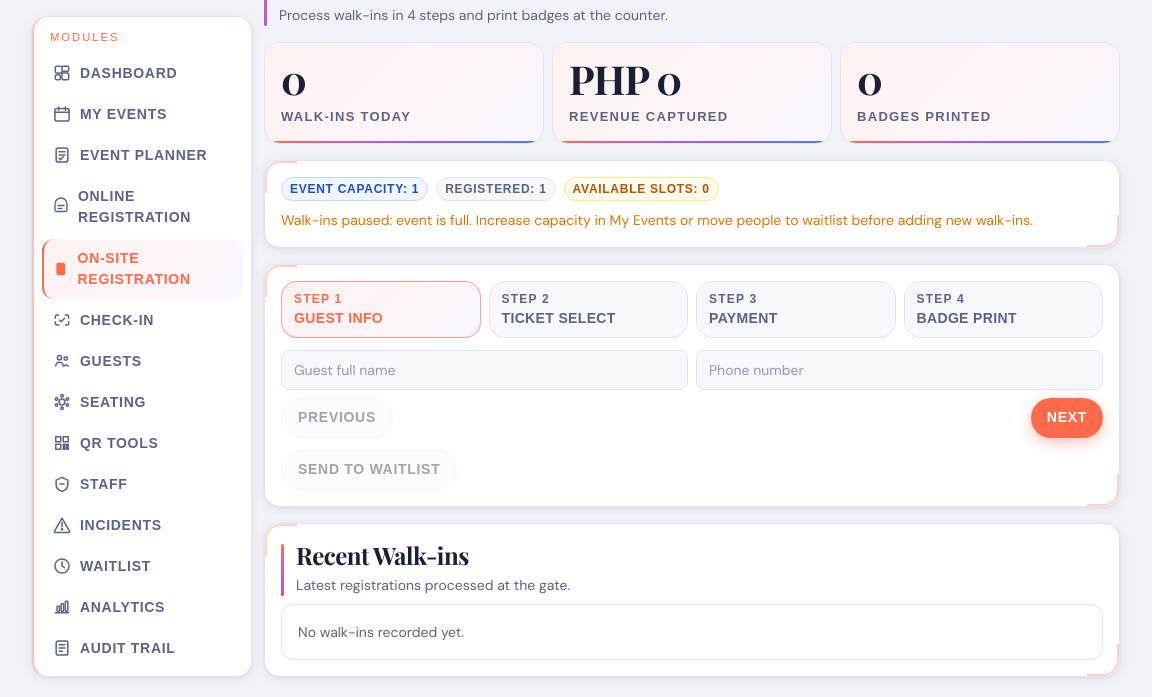
Test: OrganizerManagePage smoke › sends walk-in draft to waitlist from on-site registration when full
(page scrolled)
Expected: the text "Available slots: 0" is shown, [564,176,719,200]
In the field with placeholder "Guest full name": (484, 370) [281,350,688,390], type "Late Walkin Person"
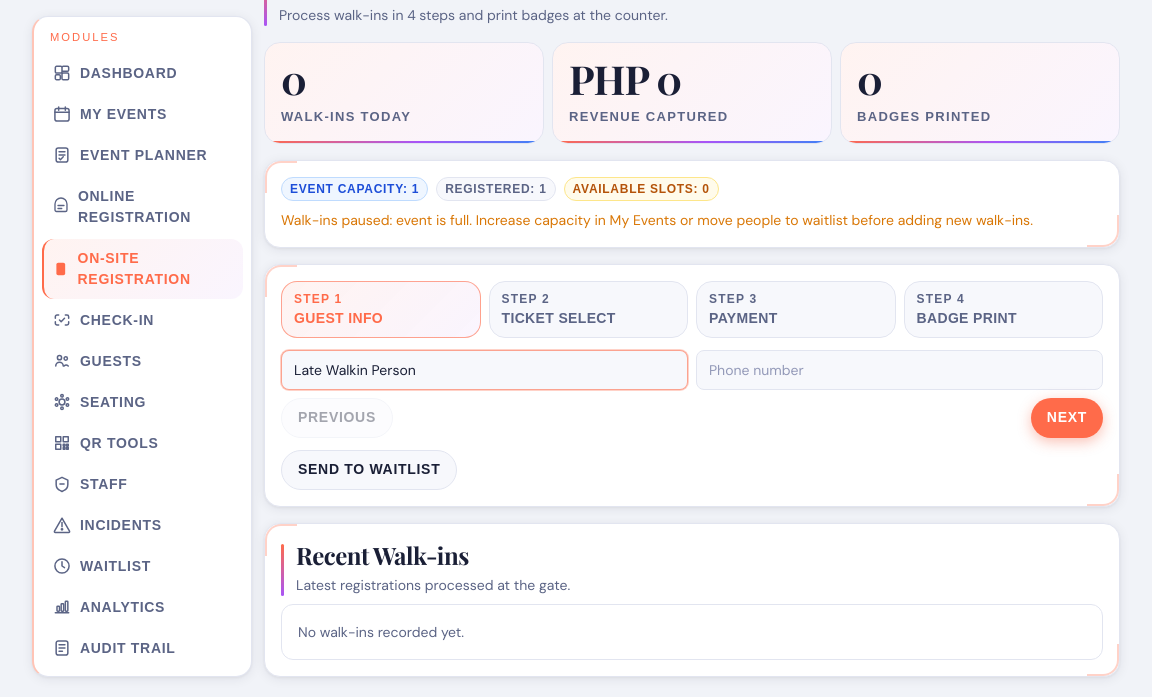
Click the button "Send to Waitlist": (369, 470) [281,450,457,490]
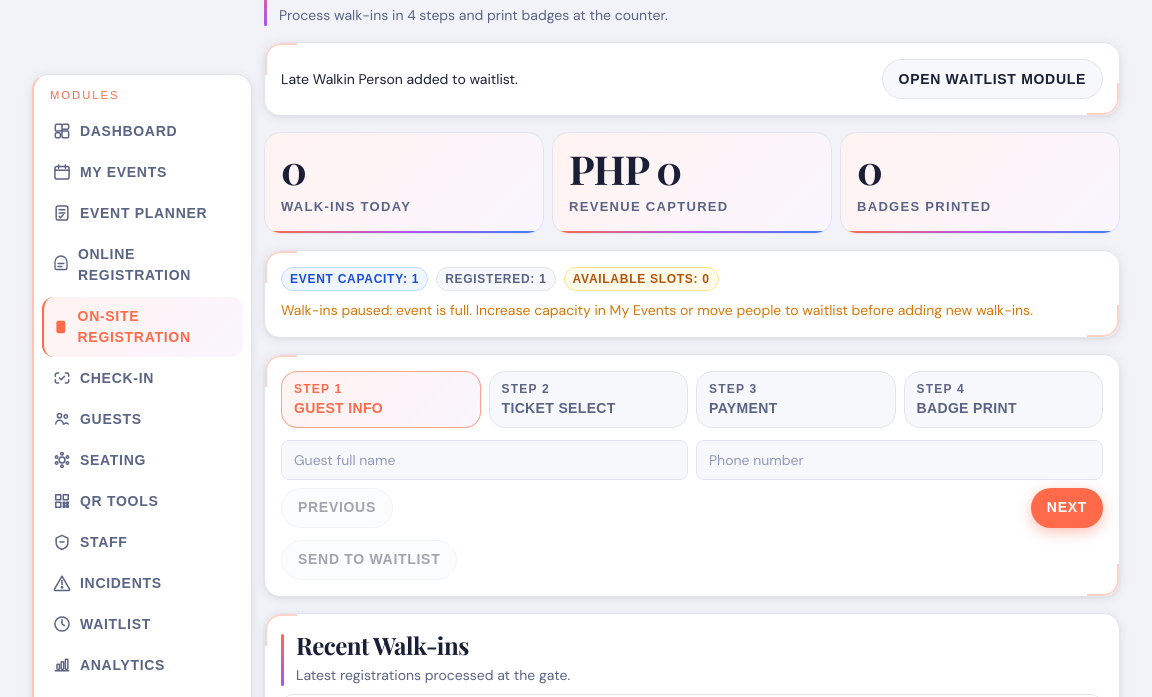
Now the text "Late Walkin Person added to waitlist." is shown, box [281,68,518,90]
Click the button "Open Waitlist Module": (992, 79) [882,59,1103,99]
(page scrolled)
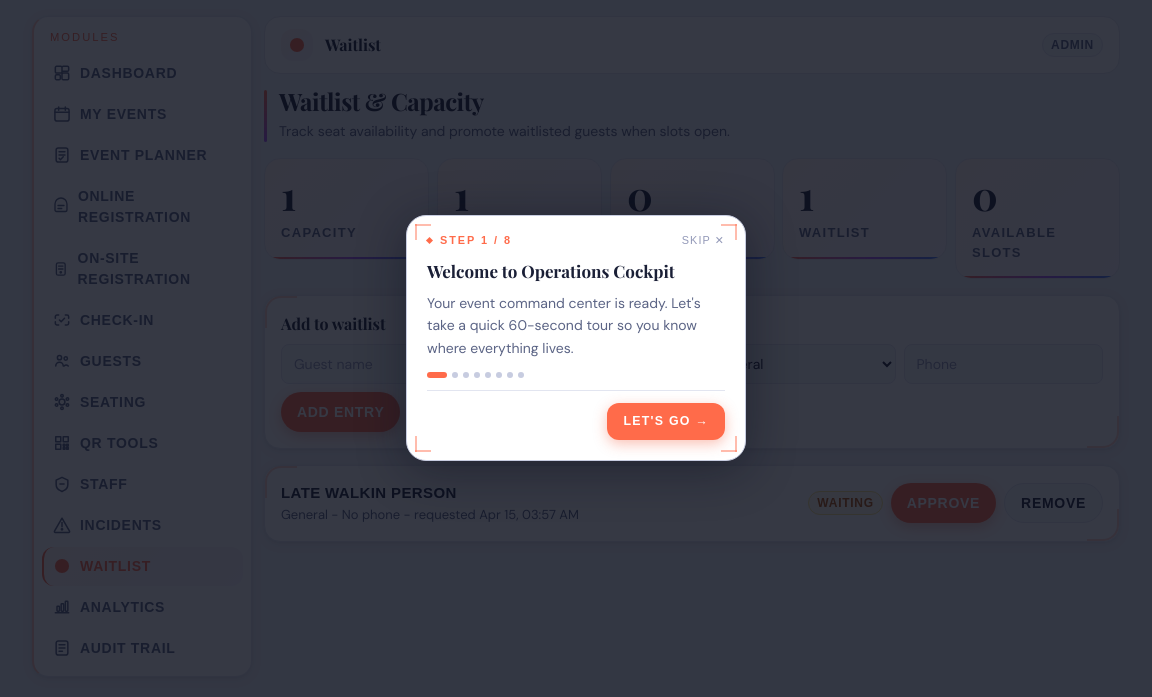
Now the heading "Waitlist & Capacity" is shown, box [279,85,484,117]
